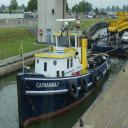tugboat: (16, 18, 113, 128)
